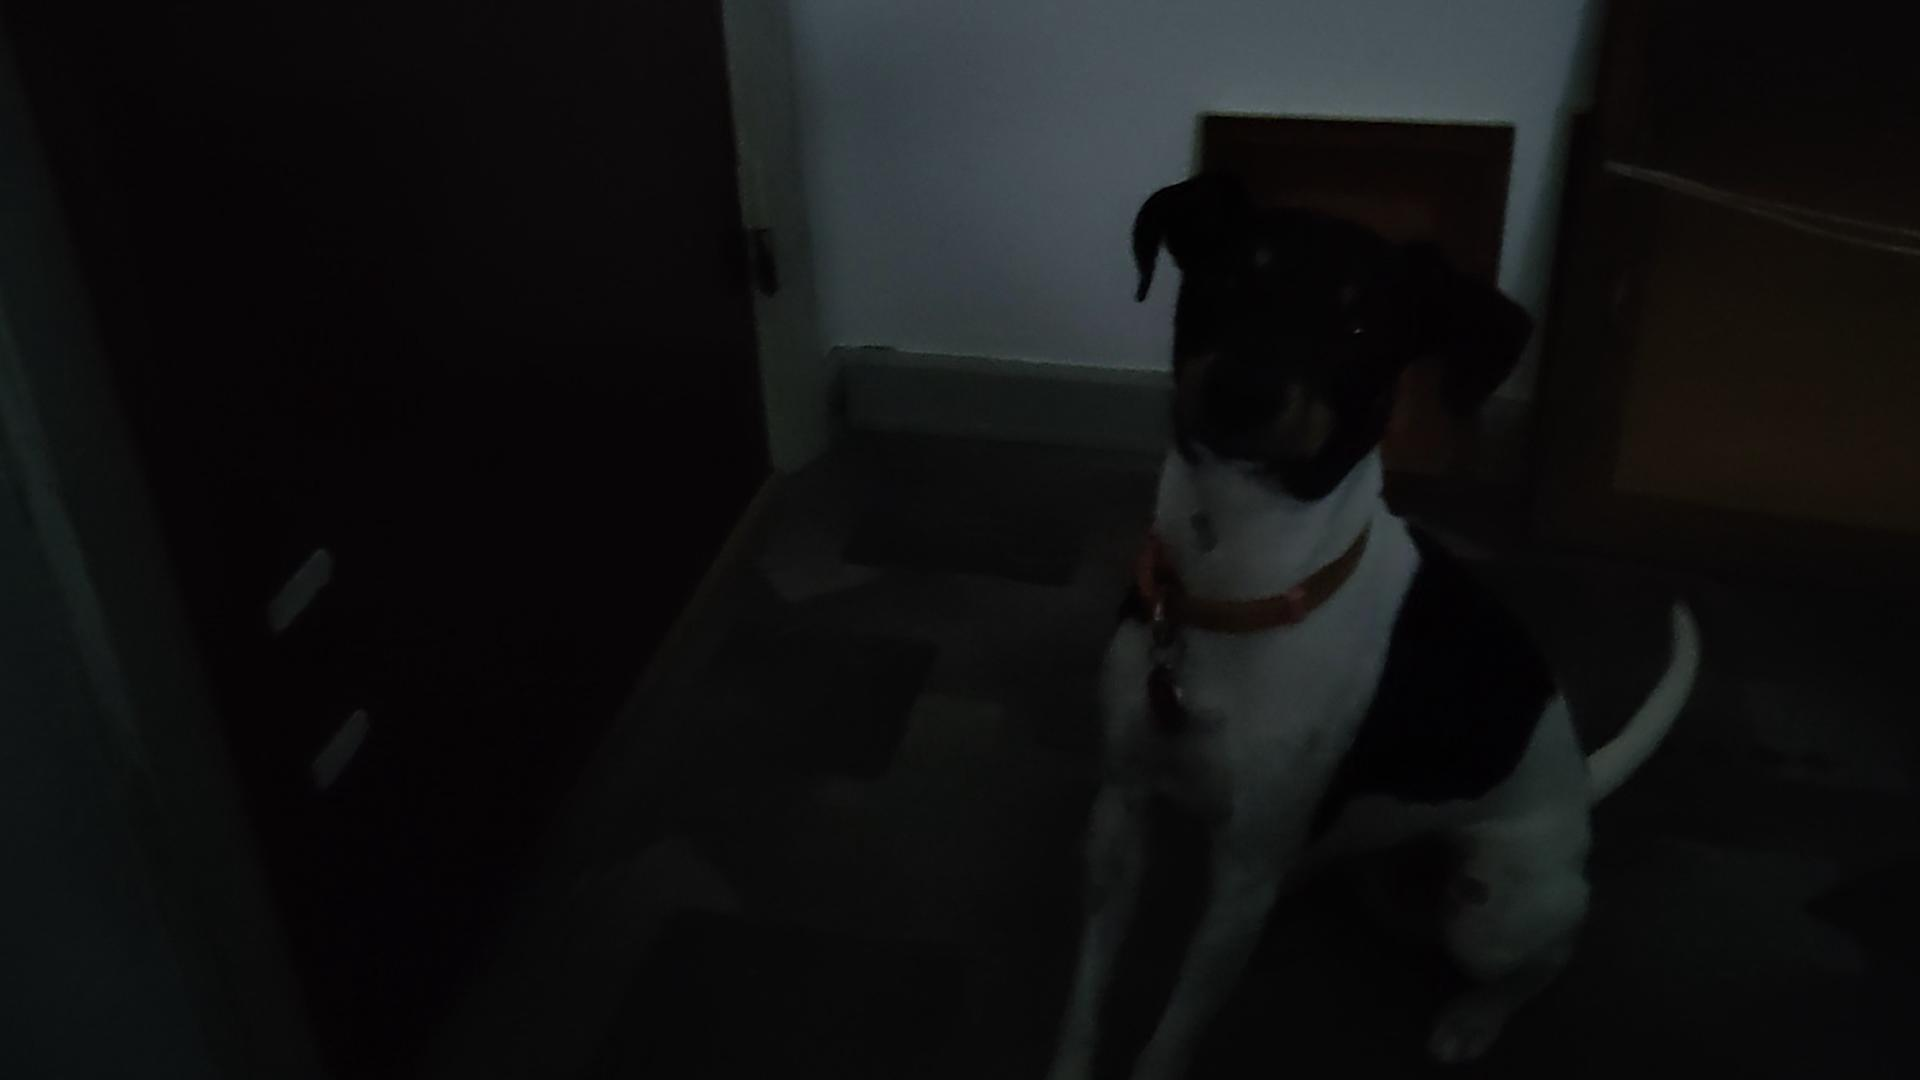Dog: (1033, 161, 1708, 1079)
